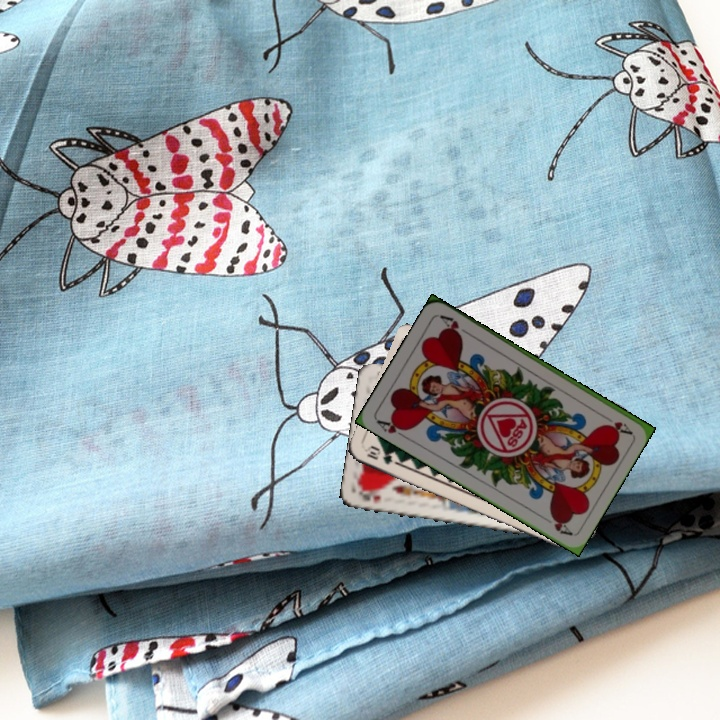G10: (361, 442, 395, 467)
HA: (373, 415, 412, 441), (597, 410, 634, 437)
HK: (358, 486, 383, 505)
